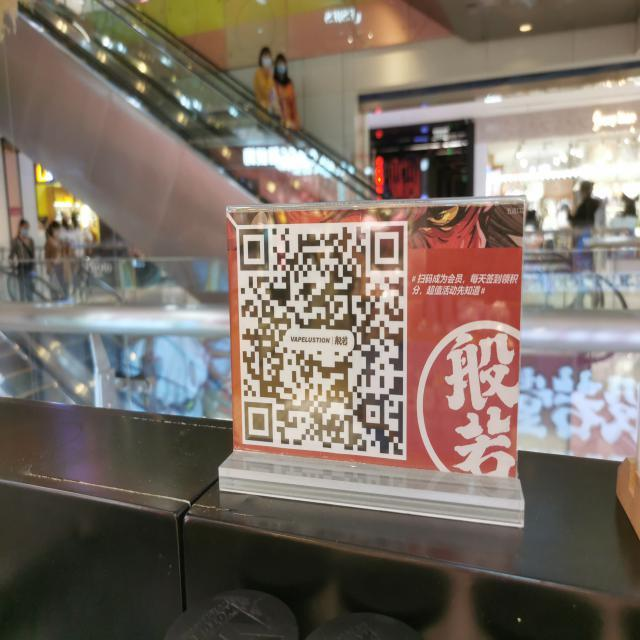qr_code: (238, 224, 404, 457)
